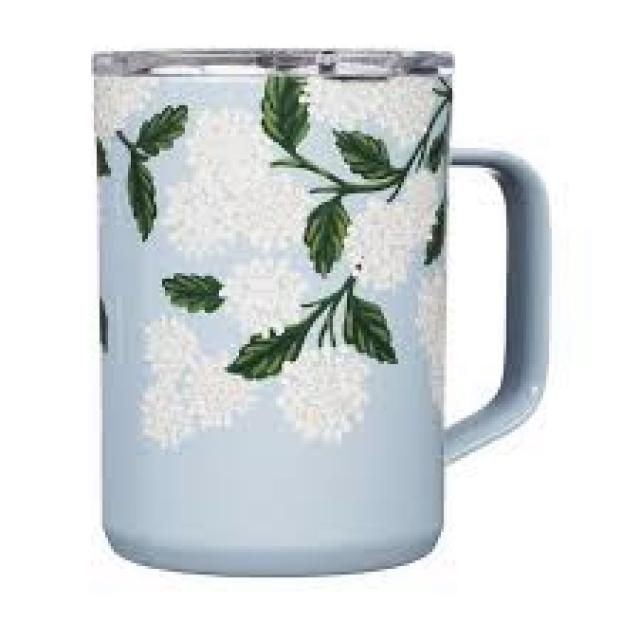bottle: (92, 50, 547, 576)
